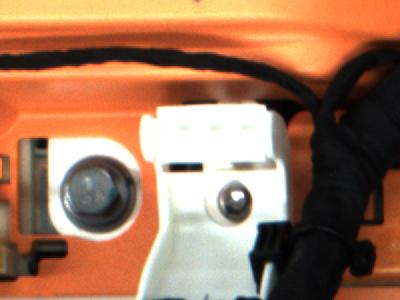nut_b: (55, 154, 141, 236)
